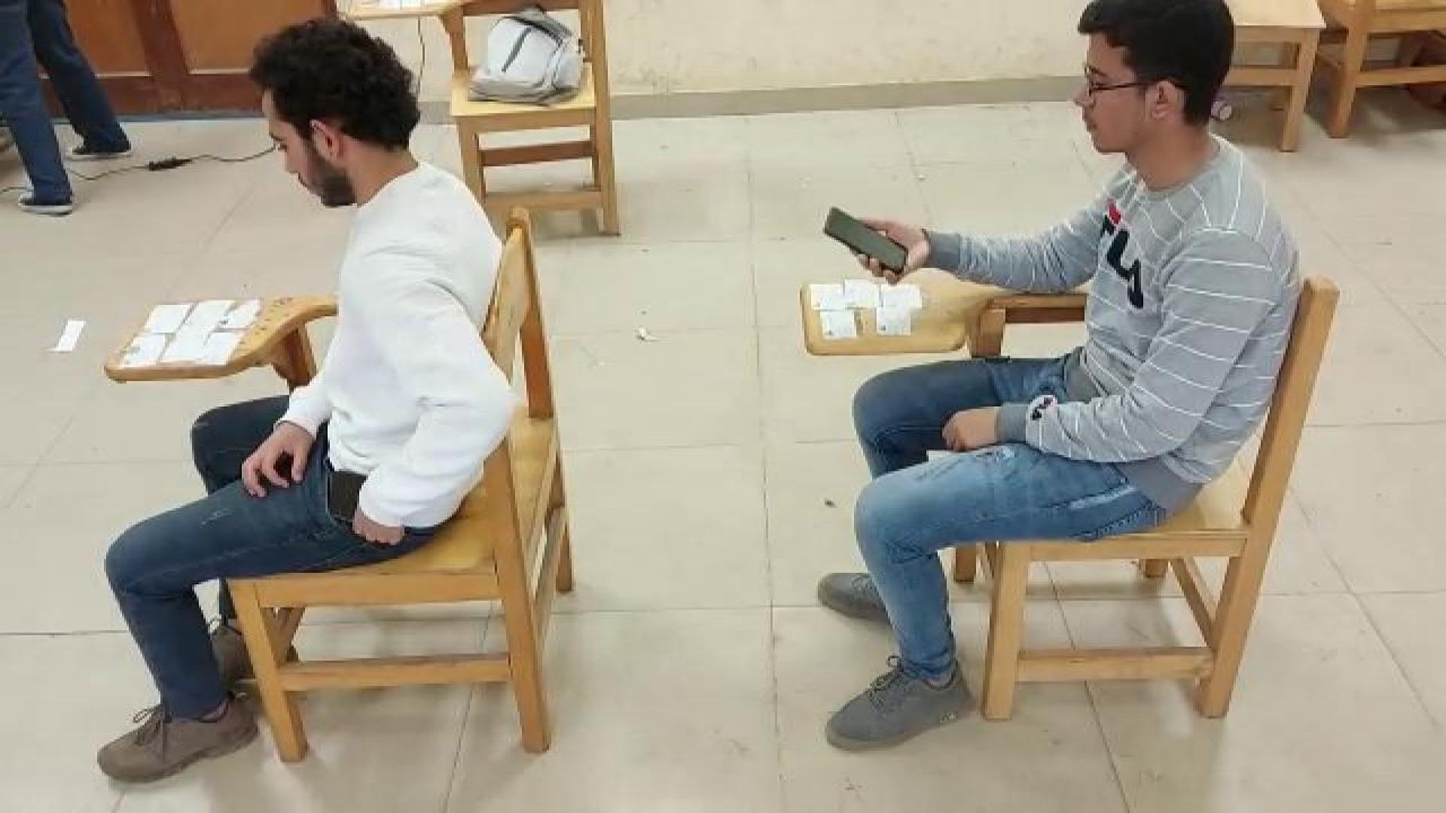phone: (813, 205, 917, 277), (323, 460, 386, 525)
